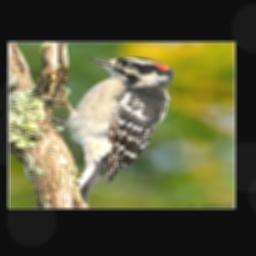Woodpecker: (45, 57, 178, 203)
